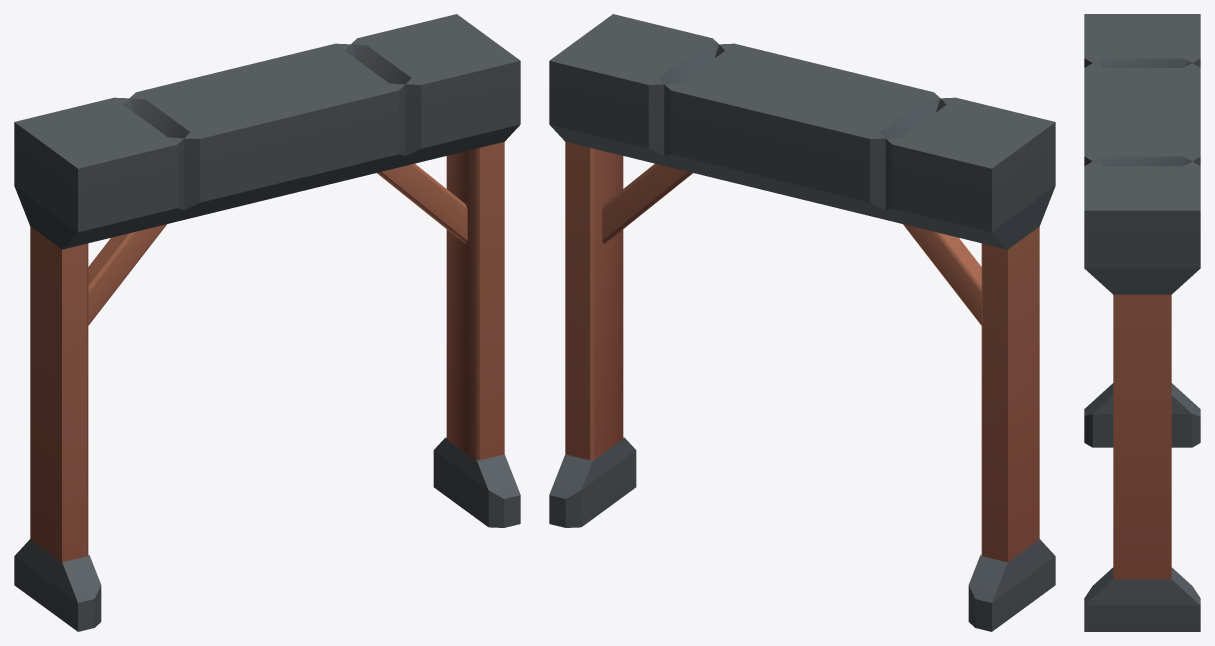
File: wall-open-scaffold-gltf.glb
3 views of the same model, side by side, from view 1: azimuth 30°, elevation 25°; view 2: azimuth 150°, elevation 25°; view 3: azimuth 270°, elevation 25° (orthographic). The views are drawn at different scales.
Visible parts, largest first — view 1: wall_open_scaffold; view 2: wall_open_scaffold; view 3: wall_open_scaffold.
Boxes of the visible parts, <box> form: wall_open_scaffold: <box>14,14,520,631</box>; wall_open_scaffold: <box>549,14,1055,631</box>; wall_open_scaffold: <box>1084,14,1200,631</box>.
Size of the model in its own units: 4 by 4 by 1.
1 material, 1 textured.
